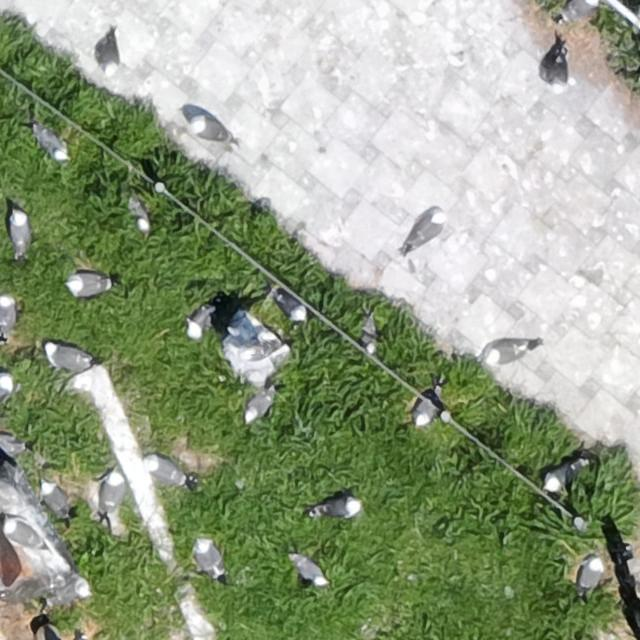umineko: (403, 206, 448, 258), (235, 339, 291, 371), (94, 31, 128, 80), (47, 344, 89, 368), (190, 117, 227, 141), (487, 341, 527, 363), (40, 129, 67, 159), (10, 211, 30, 251), (316, 498, 358, 517), (196, 540, 220, 573), (295, 558, 324, 585), (579, 558, 602, 592), (545, 464, 574, 490), (44, 485, 69, 515), (69, 273, 106, 293), (150, 460, 183, 482), (246, 393, 271, 421), (277, 296, 303, 320), (104, 476, 122, 510), (188, 306, 209, 335), (565, 0, 597, 18), (414, 399, 434, 427), (0, 296, 14, 332), (133, 204, 148, 232), (553, 59, 567, 89)
